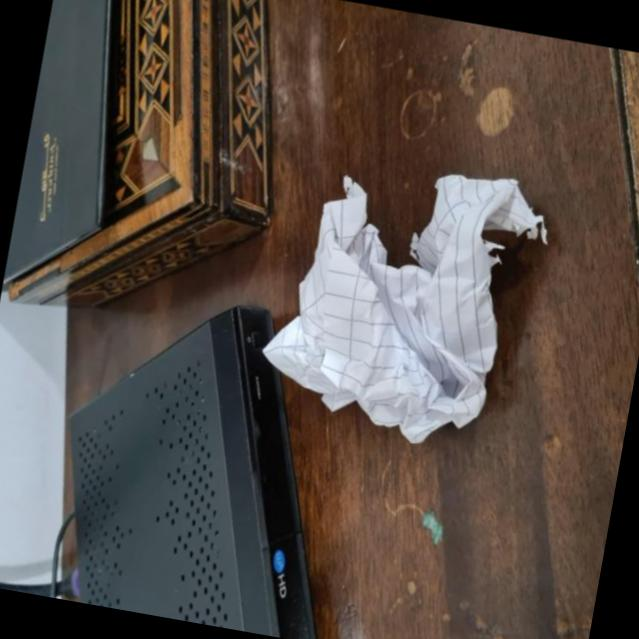cardboard paper: (262, 172, 544, 440)
